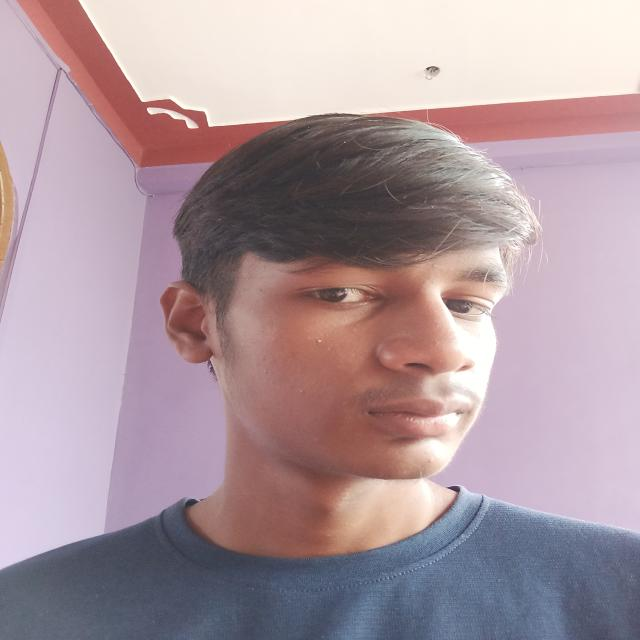Acne: (428, 334, 449, 352), (307, 334, 324, 345), (430, 263, 440, 281), (310, 436, 326, 446), (427, 454, 440, 465), (259, 369, 273, 375), (298, 390, 306, 396)
